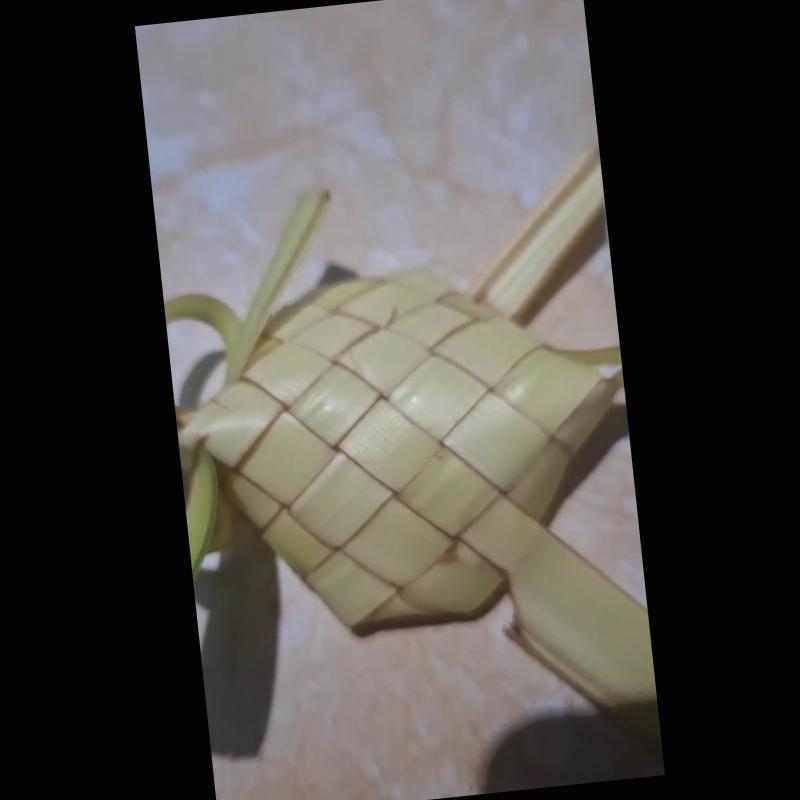Tipat Dampulan: (165, 136, 663, 750)
